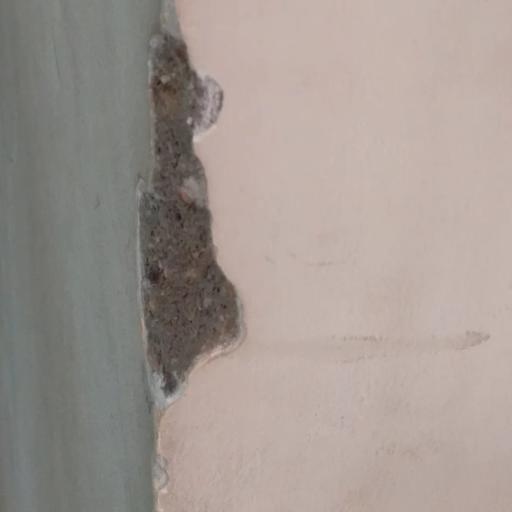spalling: (133, 2, 264, 431)
